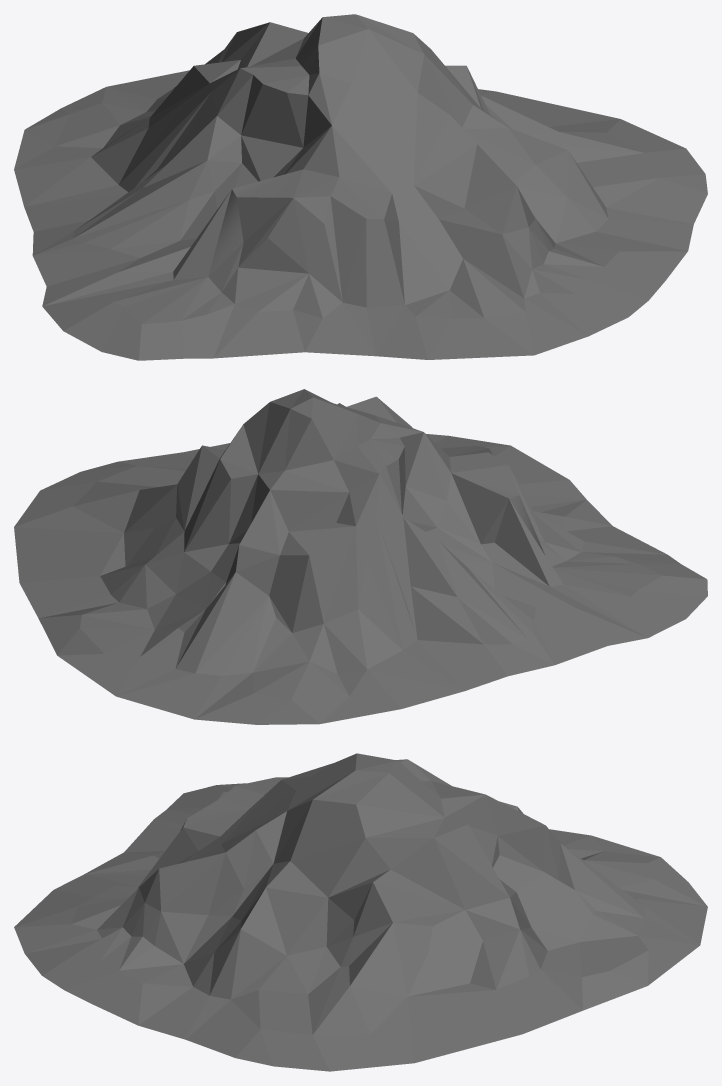
Rendered from SM_Gen_Env_Mountain_03.glb.
3 renders of one model, top to bottom at view 1: azimuth 30°, elevation 25°; view 2: azimuth 150°, elevation 25°; view 3: azimuth 270°, elevation 25°, orthographic. The views are drawn at different scales.
Visible parts, largest first — view 1: SM_Gen_Env_Mountain_03; view 2: SM_Gen_Env_Mountain_03; view 3: SM_Gen_Env_Mountain_03.
Part boxes in pixels (x1=…): SM_Gen_Env_Mountain_03: x1=14, y1=14, x2=707, y2=360; SM_Gen_Env_Mountain_03: x1=14, y1=389, x2=707, y2=724; SM_Gen_Env_Mountain_03: x1=14, y1=753, x2=707, y2=1071.
Size of the model in its own units: 84.79 by 22.71 by 85.78.
1 material, 1 textured.
